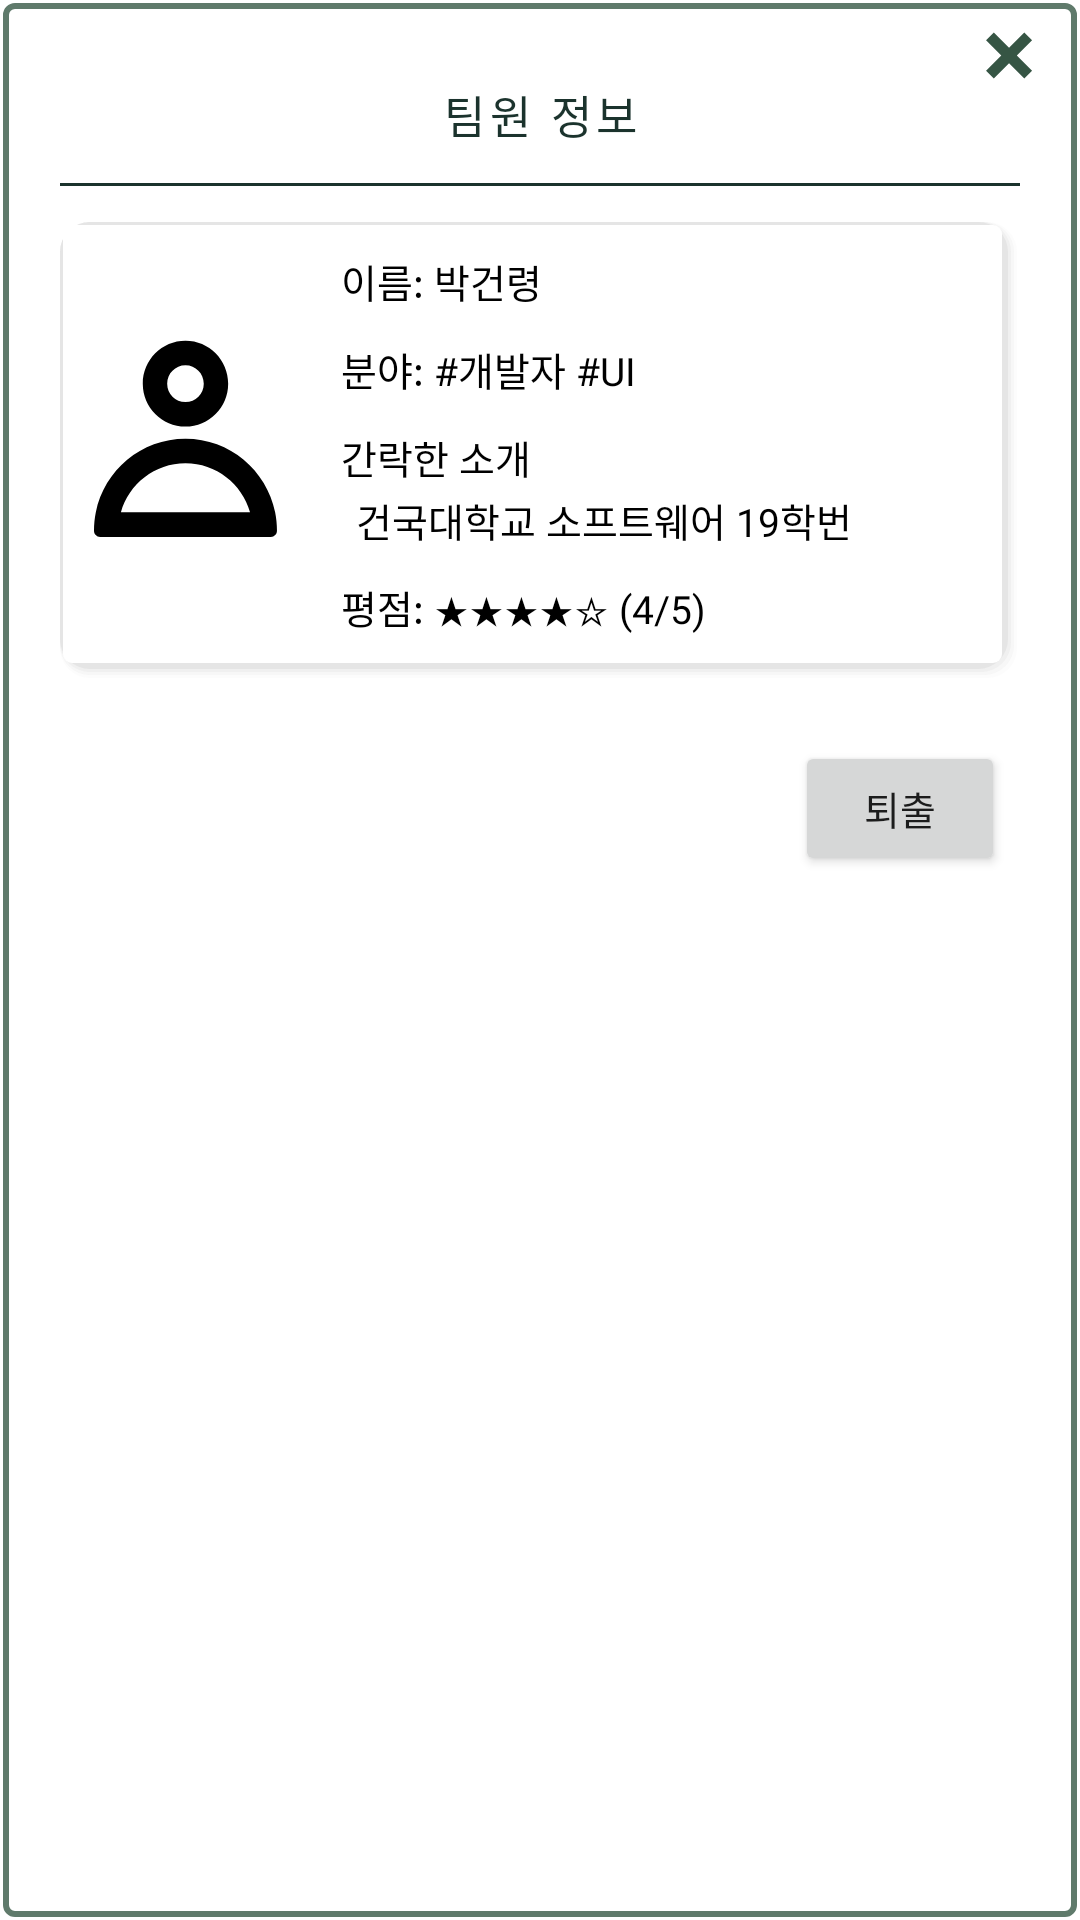

Where icons sit on this 1080 x 1920 app screen, as detection(x1, y1, x2, y2):
cancel: detection(986, 32, 1032, 79)
profile: detection(94, 340, 277, 537)
